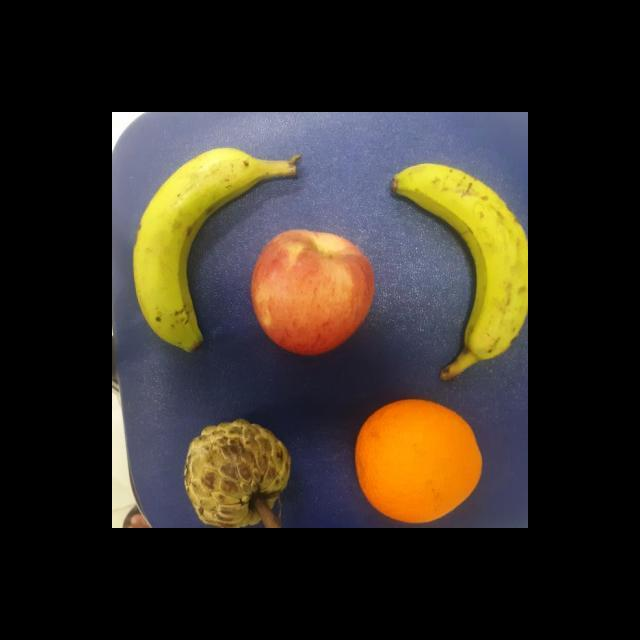Sakya fruit: (184, 419, 290, 528)
apple: (251, 228, 375, 354)
banana: (133, 146, 302, 352), (390, 162, 528, 384)
orange: (354, 399, 484, 526)
